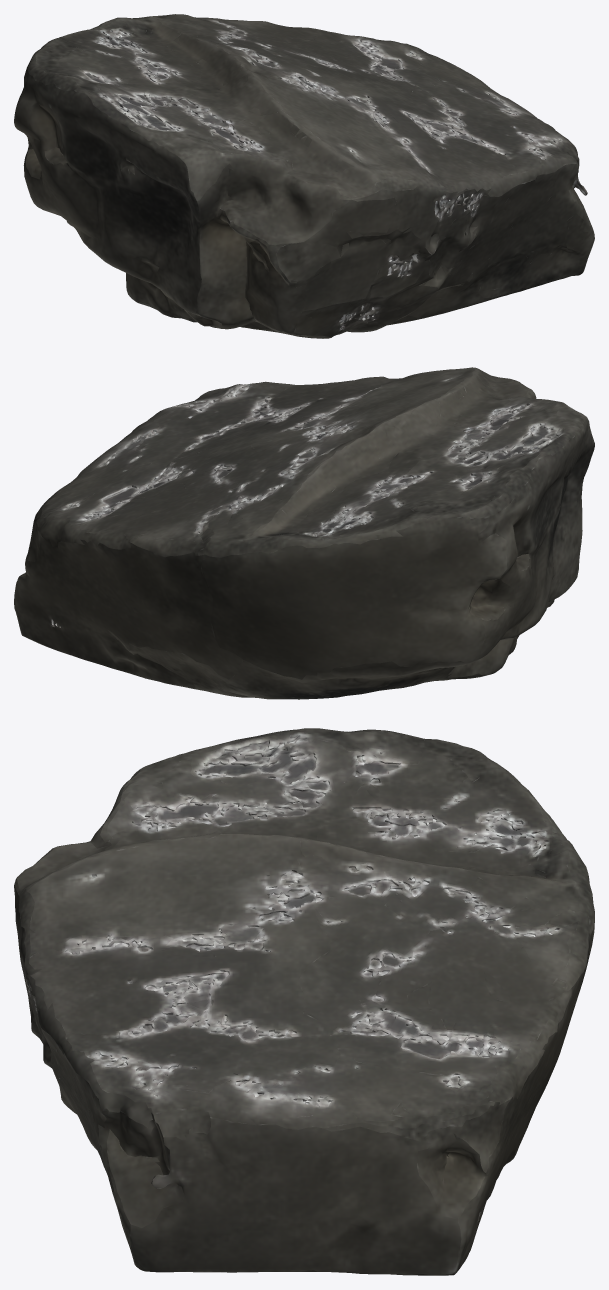
3 renders of one model, top to bottom at view 1: azimuth 30°, elevation 25°; view 2: azimuth 150°, elevation 25°; view 3: azimuth 270°, elevation 25°, orthographic. The views are drawn at different scales.
Visible parts, largest first — view 1: world; view 2: world; view 3: world.
Boxes of the visible parts, x1,y1,x2,y2 form: world: (14, 14, 594, 338); world: (14, 367, 594, 699); world: (14, 728, 594, 1275).
Size of the model in its own units: 0.35 by 0.1711 by 0.3113.
1 material, 1 textured.
